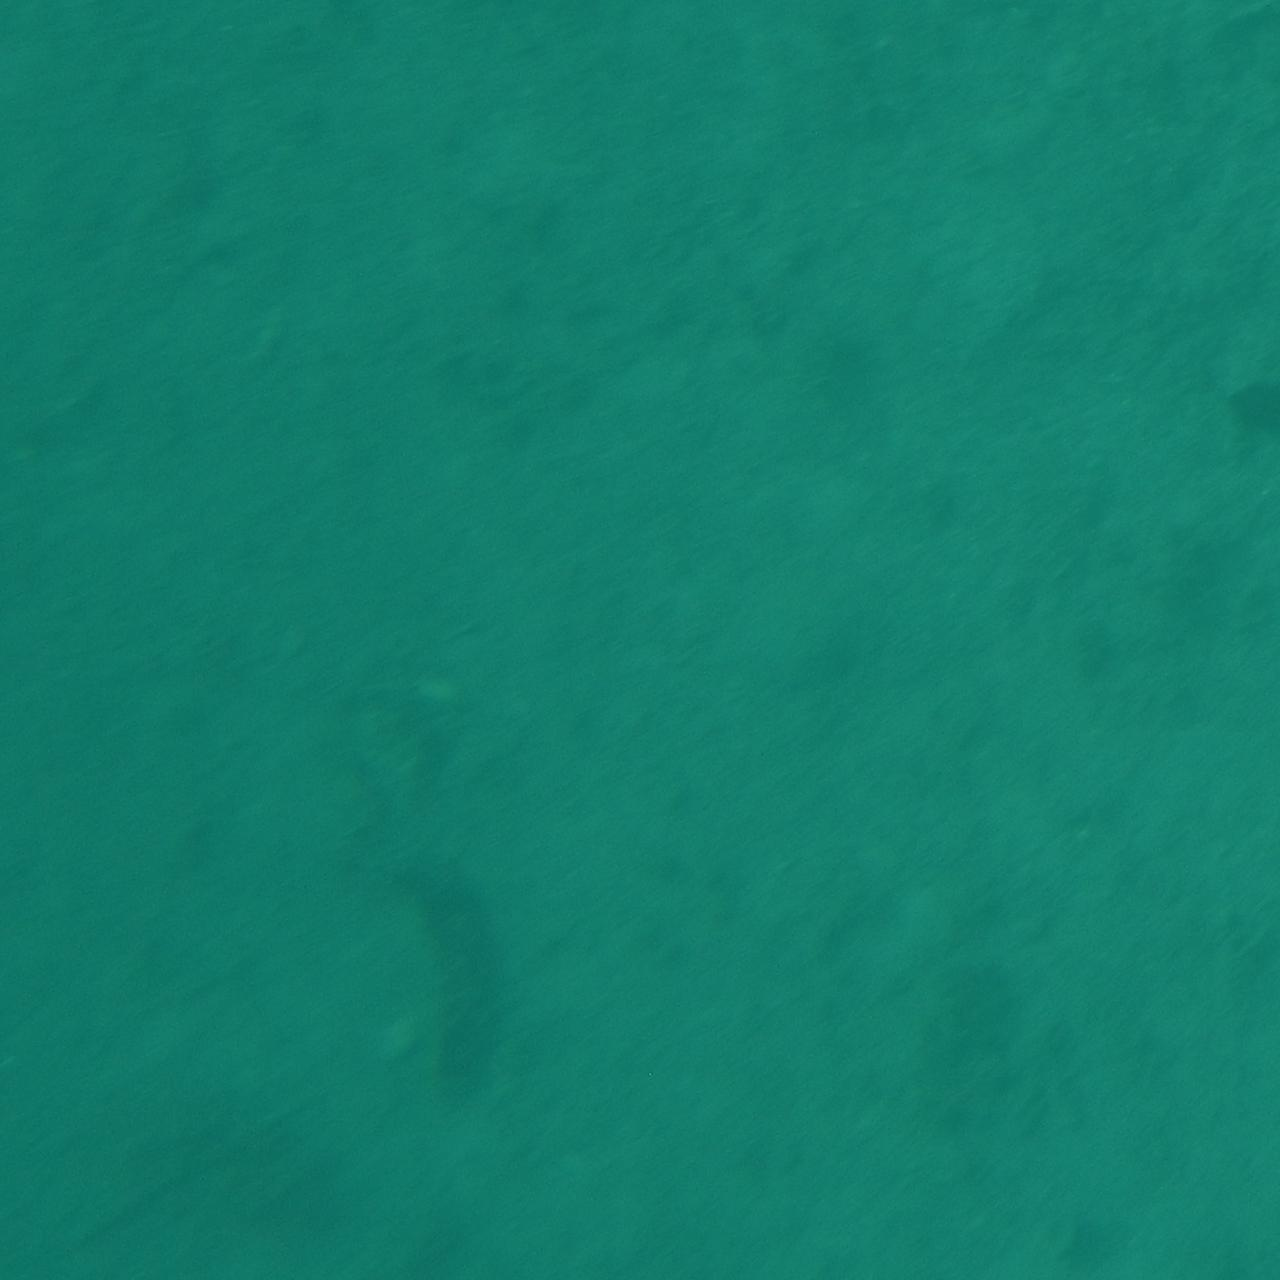Holothuria tubulosa: (392, 824, 524, 1118)
